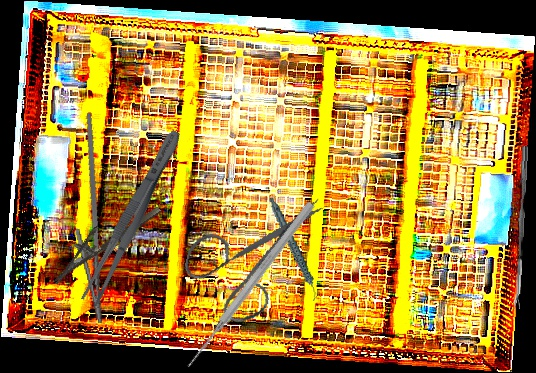Dressing Forceps: (77, 125, 188, 309)
Handpiece: (268, 193, 319, 306)
Iris Scissors: (175, 170, 326, 336)
Needle Holder: (44, 112, 129, 327), (41, 191, 163, 285)
Pusher: (182, 199, 317, 372)
Surgical Spoon: (512, 145, 529, 310)
